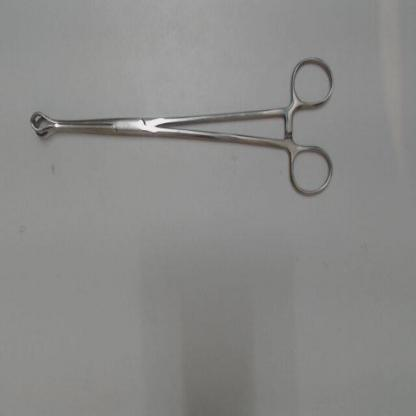8 Babcock Tissue Forceps: (27, 51, 338, 206)
